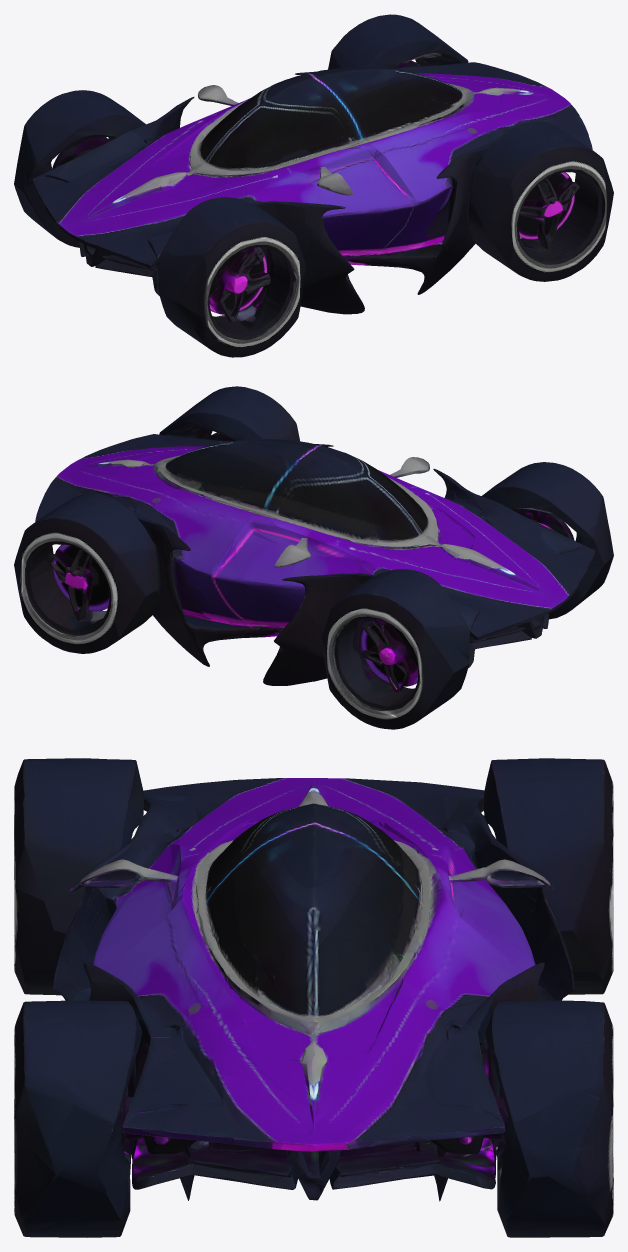
The model's file is car_fettle.glb.
3 renders of one model, top to bottom at view 1: azimuth 30°, elevation 25°; view 2: azimuth 150°, elevation 25°; view 3: azimuth 270°, elevation 25°, orthographic. The views are drawn at different scales.
Bounding box in the file's own units: 1.9 × 0.6625 × 1.23.
Materials: 1 (1 with a texture image).
